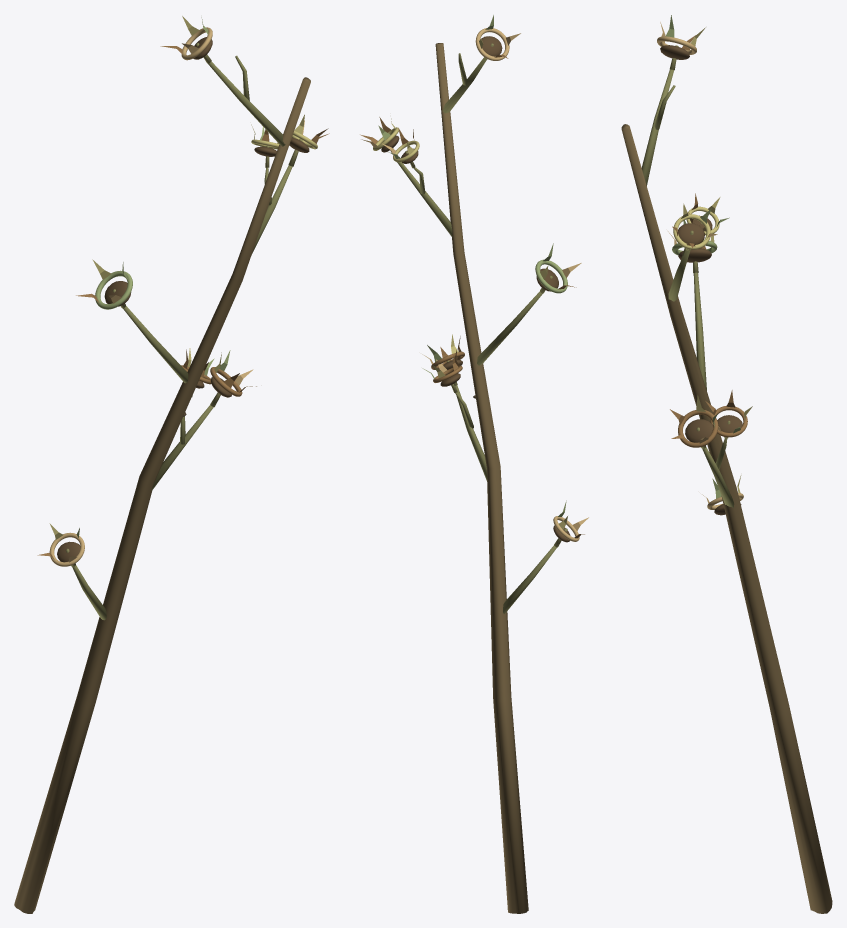
The model's file is branch_variant_E_tall_mature_01.dae.
The picture shows the model from 3 angles, left to right: view 1: azimuth 30°, elevation 25°; view 2: azimuth 150°, elevation 25°; view 3: azimuth 270°, elevation 25°; orthographic projection. The views are drawn at different scales.
Parts seen in each view (by area): view 1: branch_main_E_01, socket_E_04, socket_E_01, socket_E_03, socket_E_07, branch_side_E_05, branch_side_E_03; view 2: branch_main_E_01, socket_E_07, socket_E_04, branch_side_E_03, socket_E_06, socket_E_01, branch_side_E_04, socket_E_03, branch_side_E_01, socket_E_02, socket_E_05, branch_side_E_02; view 3: branch_main_E_01, socket_E_03, socket_E_06, socket_E_02, socket_E_07, branch_side_E_03, branch_side_E_05, socket_E_04, socket_E_05, branch_side_E_02.
Boxes of the visible parts, x1=… form: branch_main_E_01: x1=14, y1=77, x2=310, y2=913; socket_E_04: x1=76, y1=259, x2=132, y2=309; socket_E_01: x1=37, y1=523, x2=84, y2=566; socket_E_03: x1=210, y1=350, x2=256, y2=397; socket_E_07: x1=160, y1=16, x2=212, y2=60; branch_side_E_05: x1=208, y1=61, x2=285, y2=146; branch_side_E_03: x1=123, y1=306, x2=188, y2=383; branch_main_E_01: x1=435, y1=43, x2=528, y2=913; socket_E_07: x1=475, y1=15, x2=520, y2=60; socket_E_04: x1=535, y1=243, x2=581, y2=293; branch_side_E_03: x1=477, y1=291, x2=542, y2=365; socket_E_06: x1=360, y1=117, x2=399, y2=152; socket_E_01: x1=553, y1=500, x2=588, y2=542; branch_side_E_04: x1=397, y1=162, x2=452, y2=236; socket_E_03: x1=422, y1=334, x2=464, y2=369; branch_side_E_01: x1=503, y1=545, x2=556, y2=613; socket_E_02: x1=422, y1=348, x2=462, y2=386; socket_E_05: x1=382, y1=128, x2=419, y2=163; branch_side_E_02: x1=455, y1=385, x2=487, y2=481; branch_main_E_01: x1=621, y1=124, x2=832, y2=913; socket_E_03: x1=670, y1=395, x2=718, y2=447; socket_E_06: x1=672, y1=203, x2=717, y2=249; socket_E_02: x1=705, y1=390, x2=752, y2=437; socket_E_07: x1=657, y1=15, x2=705, y2=59; branch_side_E_03: x1=693, y1=272, x2=706, y2=390; branch_side_E_05: x1=641, y1=69, x2=673, y2=185; socket_E_04: x1=668, y1=220, x2=717, y2=262; socket_E_05: x1=686, y1=193, x2=729, y2=235; branch_side_E_02: x1=702, y1=447, x2=734, y2=507.
Size of the model in its own units: 0.2651 by 0.1709 by 0.8458.
